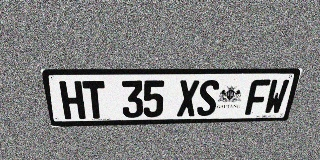3: (121, 80, 143, 118)
5: (143, 80, 164, 117)
F: (245, 79, 271, 115)
H: (59, 81, 86, 119)
S: (196, 80, 220, 116)
T: (82, 81, 107, 119)
W: (263, 79, 290, 114)
X: (177, 80, 199, 116)
